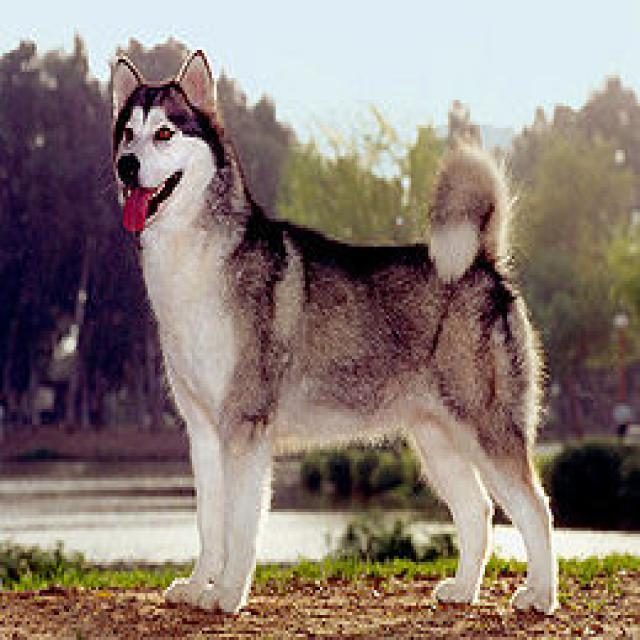ALASKAN_MALAMUTE: (67, 33, 570, 614)
